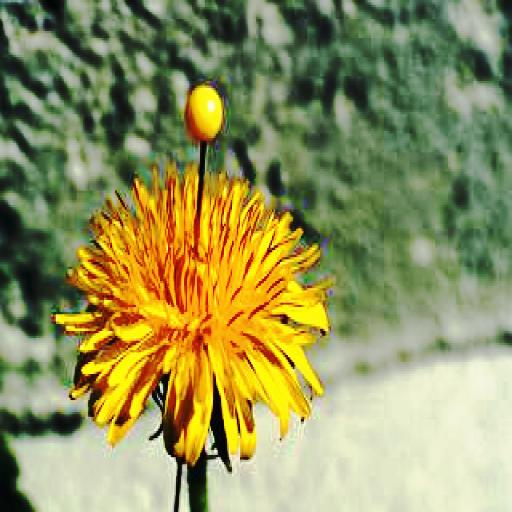dandelion: (51, 174, 322, 443)
